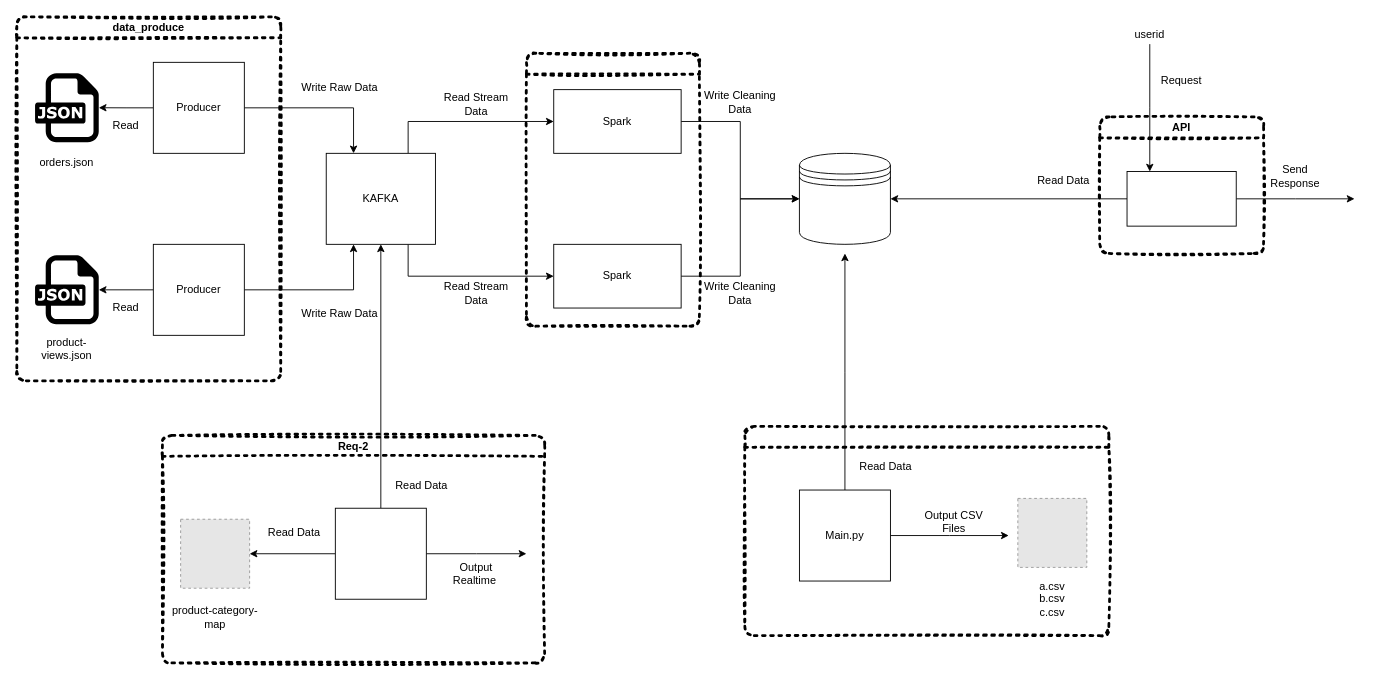
The diagram is 1378 pixels wide and 680 high, and some of its shapes have lost their labels. Grey dashed boxes stand in for pictures. The shapes that lost their labels are listed below. From the top down, each one's box as (x1, y1, x2, y2) in pixels, then its label:
(525, 51, 700, 327): data_consumer
(799, 152, 890, 244): PostgreSQL
(1126, 171, 1236, 226): app.py
(743, 425, 1110, 637): category_management
(334, 507, 426, 599): Consurmer
